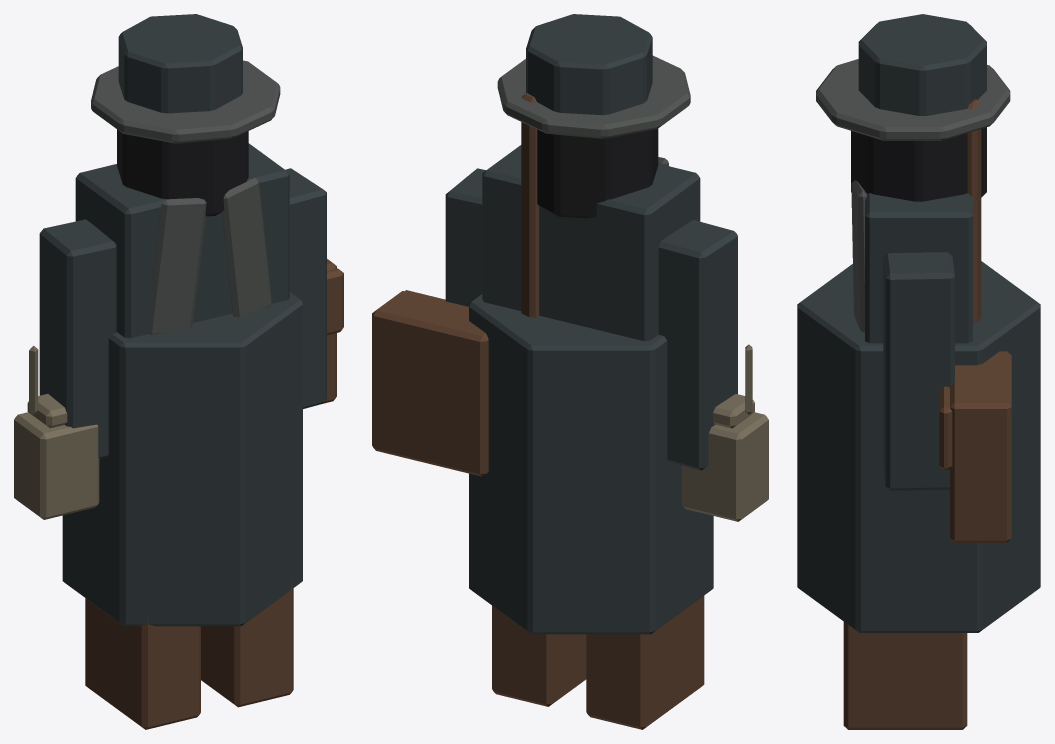
File: investigator_blockout.glb
3 views of the same model, side by side, from view 1: azimuth 30°, elevation 25°; view 2: azimuth 150°, elevation 25°; view 3: azimuth 270°, elevation 25° (orthographic).
Parts seen in each view (by area): view 1: M_CoatSkirt, M_CoatTorso, M_LeftArm, M_LeftBoot, M_HatCrown, M_RightBoot, M_LanternBody, M_Head, M_HatBrim, M_RightArm, M_CoatLapelLeft, M_CoatLapelRight (+4 smaller); view 2: M_CoatSkirt, M_CoatTorso, M_Satchel, M_LeftArm, M_HatCrown, M_LeftBoot, M_Head, M_LanternBody, M_HatBrim, M_RightBoot, M_RightArm, M_SatchelStrap (+1 smaller); view 3: M_CoatSkirt, M_RightArm, M_RightBoot, M_HatCrown, M_Satchel, M_CoatTorso, M_Head, M_HatBrim, M_SatchelStrap, M_CoatLapelRight, M_SatchelFlap.
Boxes of the visible parts, <box> form: M_CoatSkirt: <box>62,292,302,626</box>; M_CoatTorso: <box>75,143,289,338</box>; M_LeftArm: <box>39,219,116,458</box>; M_LeftBoot: <box>85,598,200,729</box>; M_HatCrown: <box>118,14,242,113</box>; M_RightBoot: <box>201,583,293,707</box>; M_LanternBody: <box>14,412,99,519</box>; M_Head: <box>117,129,248,216</box>; M_HatBrim: <box>91,60,280,143</box>; M_RightArm: <box>285,168,326,408</box>; M_CoatLapelLeft: <box>147,198,206,334</box>; M_CoatLapelRight: <box>222,178,271,316</box>; M_CoatSkirt: <box>469,294,713,634</box>; M_CoatTorso: <box>482,145,700,341</box>; M_Satchel: <box>372,291,488,476</box>; M_LeftArm: <box>658,220,737,470</box>; M_HatCrown: <box>526,14,652,115</box>; M_LeftBoot: <box>586,596,704,729</box>; M_Head: <box>537,129,658,218</box>; M_LanternBody: <box>682,412,768,521</box>; M_HatBrim: <box>497,55,690,138</box>; M_RightBoot: <box>492,605,586,706</box>; M_RightArm: <box>445,168,485,306</box>; M_SatchelStrap: <box>521,93,539,317</box>; M_CoatSkirt: <box>797,261,1040,632</box>; M_RightArm: <box>883,252,954,490</box>; M_RightBoot: <box>843,615,967,729</box>; M_HatCrown: <box>858,14,986,115</box>; M_Satchel: <box>950,351,1011,542</box>; M_CoatTorso: <box>865,193,972,343</box>; M_Head: <box>851,127,986,201</box>; M_HatBrim: <box>816,59,1010,140</box>; M_SatchelStrap: <box>967,99,981,322</box>; M_CoatLapelRight: <box>851,180,867,332</box>; M_SatchelFlap: <box>939,386,952,470</box>.
Size of the model in its own units: 1 by 1.87 by 0.63.
